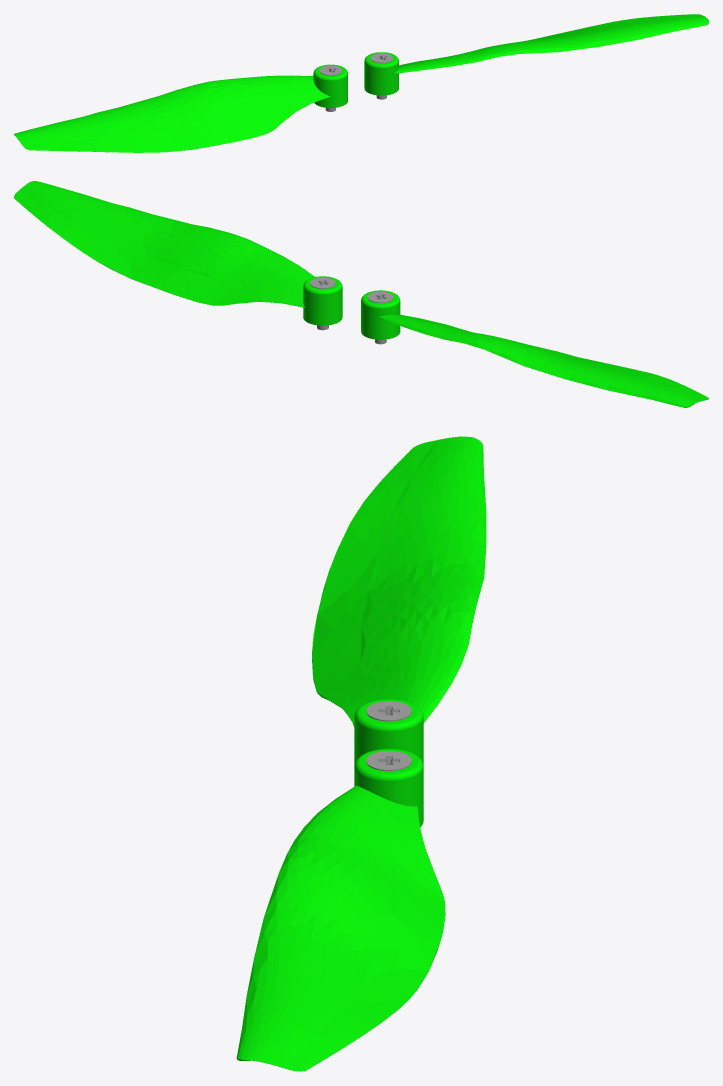
File: Starling_propeller_CW.obj
3 views of the same model, one above another, from view 1: azimuth 30°, elevation 25°; view 2: azimuth 150°, elevation 25°; view 3: azimuth 270°, elevation 25° (orthographic). The views are drawn at different scales.
Visible parts, largest first — view 1: Body1:3, Body1:2, Body1:1, Body1; view 2: Body1:2, Body1:3; view 3: Body1:2, Body1:3.
Boxes of the visible parts, x1=… form: Body1:3: x1=14, y1=64, x2=347, y2=152; Body1:2: x1=364, y1=14, x2=708, y2=95; Body1:1: x1=370, y1=53, x2=393, y2=99; Body1: x1=319, y1=65, x2=342, y2=111; Body1:2: x1=14, y1=181, x2=342, y2=325; Body1:3: x1=361, y1=290, x2=708, y2=407; Body1:2: x1=236, y1=749, x2=445, y2=1071; Body1:3: x1=312, y1=436, x2=486, y2=766.
Bounding box in the file's own units: 126 × 7.4 × 21.23.
